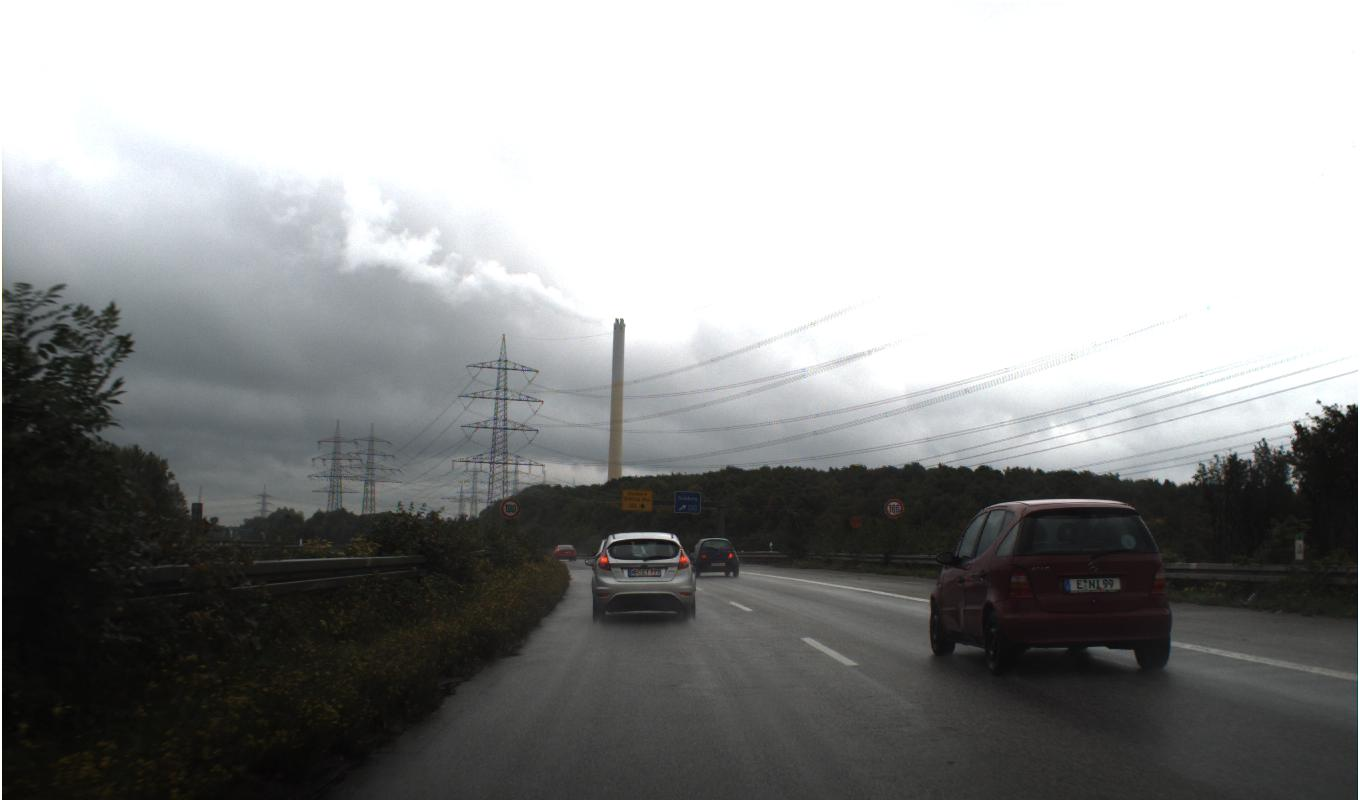prohibitory: (500, 496, 521, 518), (883, 498, 904, 520)
